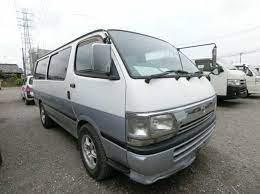van: (21, 26, 230, 189)
